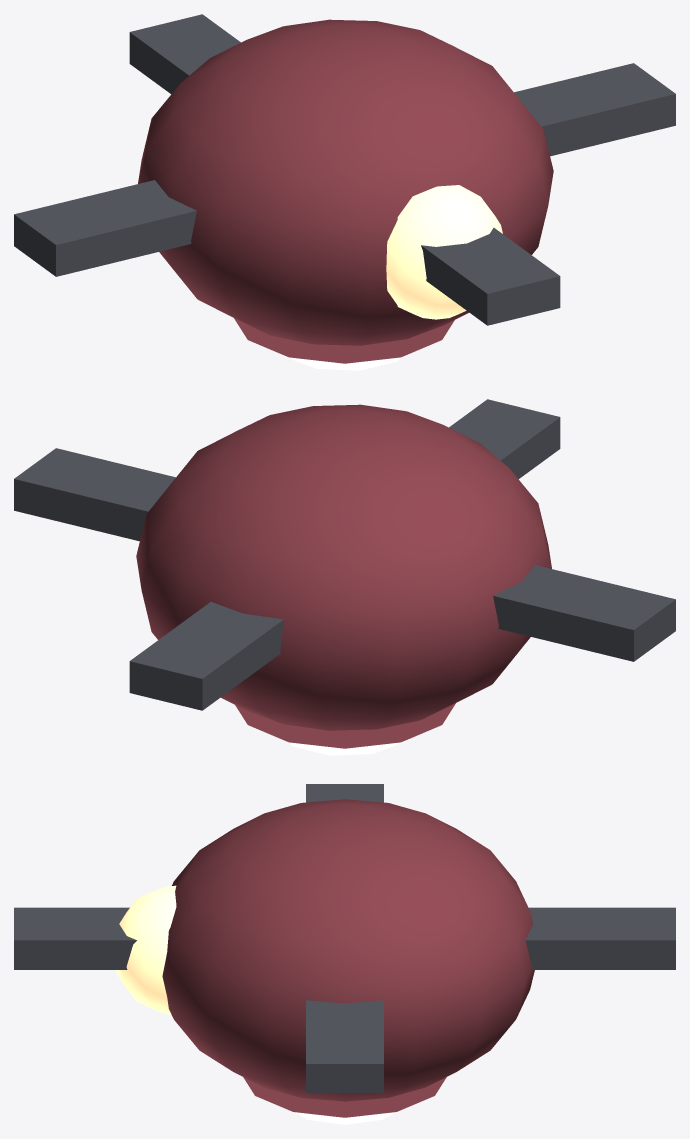
File: enemy_drone.glb
The picture shows the model from 3 angles, top to bottom: view 1: azimuth 30°, elevation 25°; view 2: azimuth 150°, elevation 25°; view 3: azimuth 270°, elevation 25°; orthographic projection. The views are drawn at different scales.
Visible parts, largest first — view 1: body, ring, eye, thruster; view 2: body, ring, thruster; view 3: body, ring, eye, thruster.
Boxes of the visible parts, left/top/right/bottom form: body: left=138, top=19, right=553, bottom=363; ring: left=14, top=14, right=675, bottom=325; eye: left=386, top=185, right=502, bottom=319; thruster: left=284, top=355, right=400, bottom=370; body: left=136, top=404, right=551, bottom=748; ring: left=14, top=399, right=675, bottom=710; thruster: left=289, top=740, right=405, bottom=755; body: left=162, top=799, right=534, bottom=1117; ring: left=14, top=784, right=675, bottom=1093; eye: left=115, top=885, right=176, bottom=1014; thruster: left=294, top=1112, right=395, bottom=1124.
Bounding box in the file's own units: 1.02 × 0.466 × 1.02.
